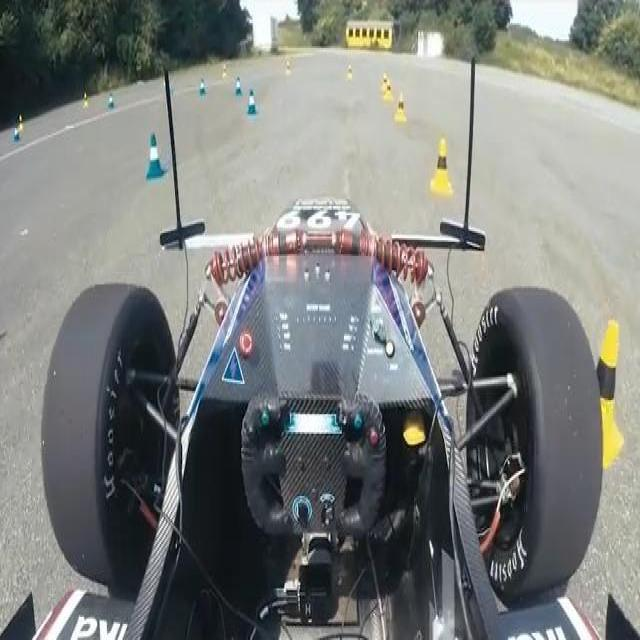blue_cone: (145, 132, 165, 180), (246, 89, 257, 117), (235, 76, 243, 98), (198, 78, 206, 98)
yellow_cone: (579, 315, 626, 474), (429, 135, 453, 197), (394, 90, 407, 122), (384, 78, 394, 103)
